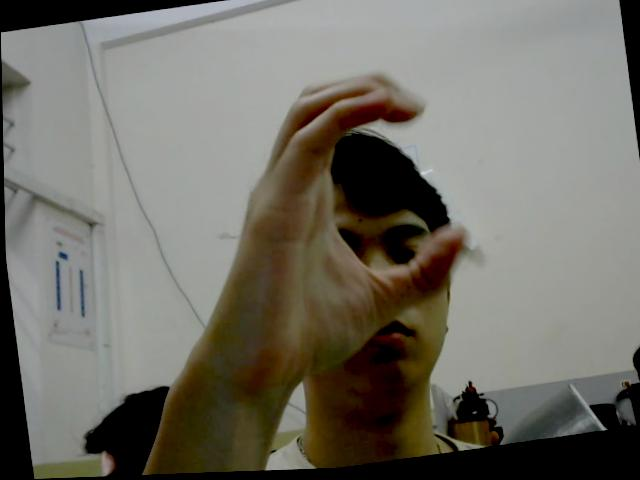C: (197, 62, 484, 389)
